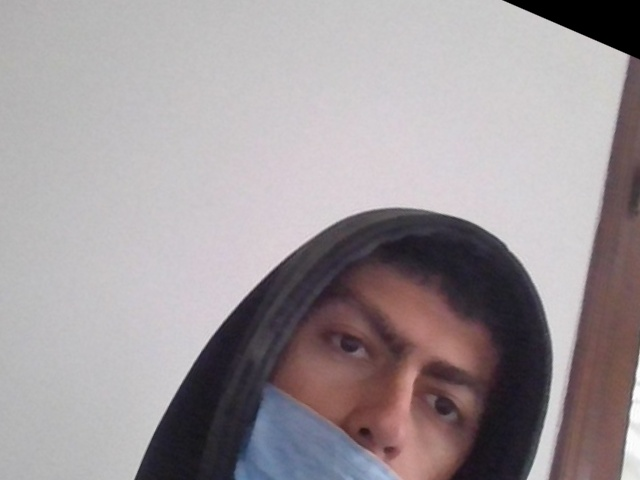mask_weared_incorrect: (231, 246, 529, 480)
